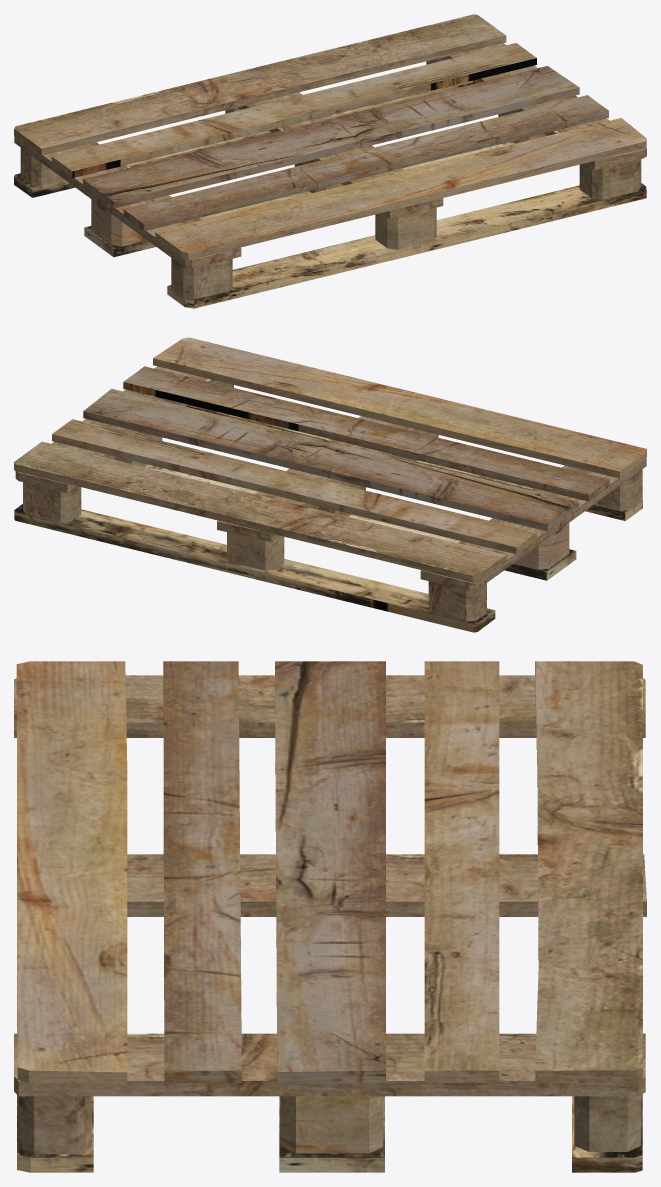
File: palette.FBX
3 renders of one model, top to bottom at view 1: azimuth 30°, elevation 25°; view 2: azimuth 150°, elevation 25°; view 3: azimuth 270°, elevation 25°, orthographic. The views are drawn at different scales.
Visible parts, largest first — view 1: palette_001; view 2: palette_001; view 3: palette_001.
Boxes of the visible parts, box(x1,y1,x2,y2) form: palette_001: box(14, 14, 646, 308); palette_001: box(14, 337, 646, 632); palette_001: box(14, 661, 646, 1172).
Size of the model in its own units: 1.23 by 0.1428 by 0.8002.
